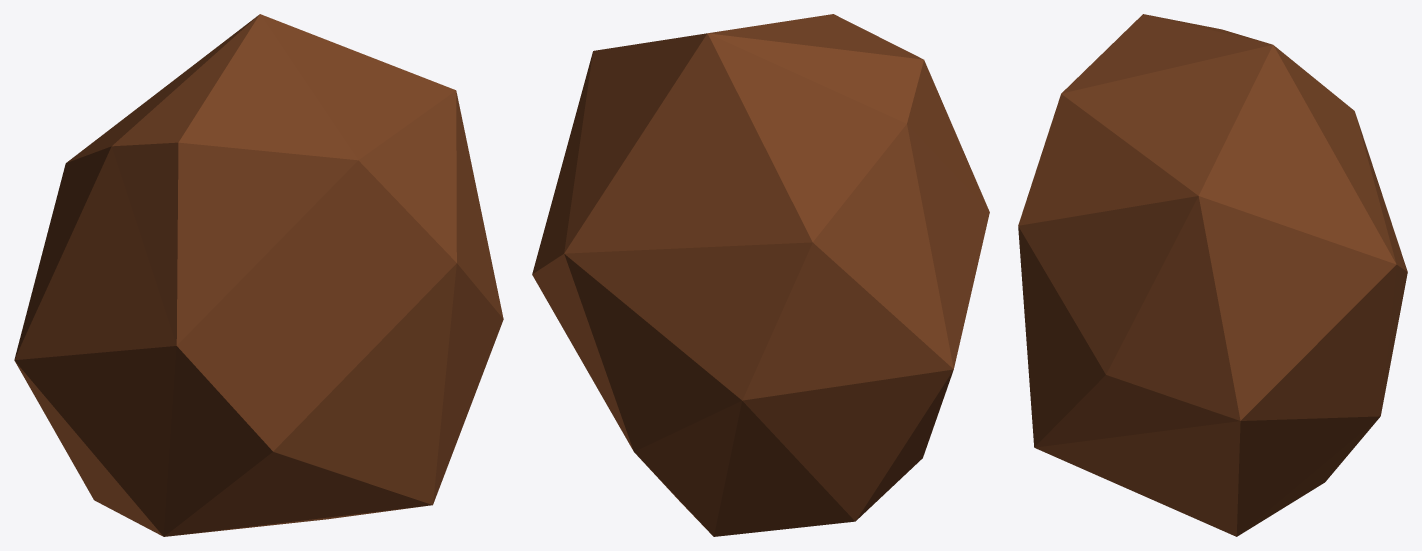
File: Rock_07_Pebble.obj
3 renders of one model, left to right at view 1: azimuth 30°, elevation 25°; view 2: azimuth 150°, elevation 25°; view 3: azimuth 270°, elevation 25°, orthographic. The views are drawn at different scales.
Visible parts, largest first — view 1: Rock_07_Pebble; view 2: Rock_07_Pebble; view 3: Rock_07_Pebble.
Boxes of the visible parts, x1,y1,x2,y2 form: Rock_07_Pebble: [14, 14, 503, 536]; Rock_07_Pebble: [532, 14, 989, 536]; Rock_07_Pebble: [1018, 14, 1407, 536].
Bounding box in the file's own units: 0.9072 × 0.9806 × 0.7363.
